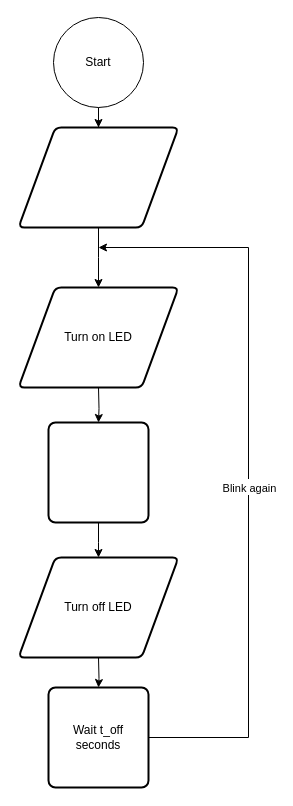
Some shapes in this 293 by 806 pixel diagram are drawn without their labels. The centre of each missing label's shape, as x and y in pixels:
"Receive t_on and t_off from user" goes at [98,177].
"Wait t_on seconds" goes at [98,472].
